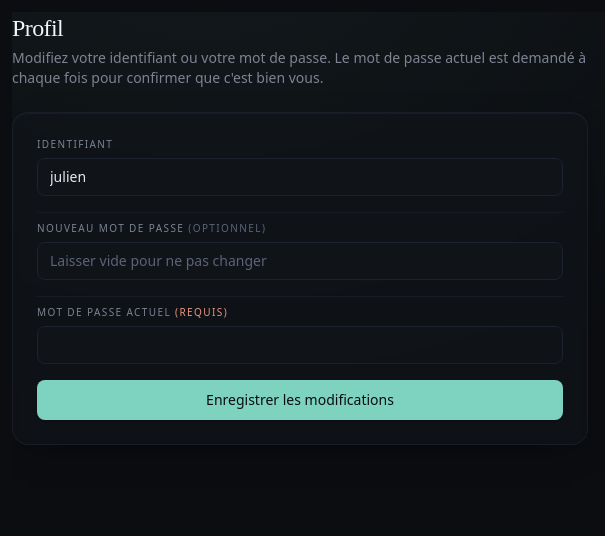
Test case: Profile › surfaces server errors as-is
Replace the text in the field with "newname": (300, 177) [37,158,563,196]
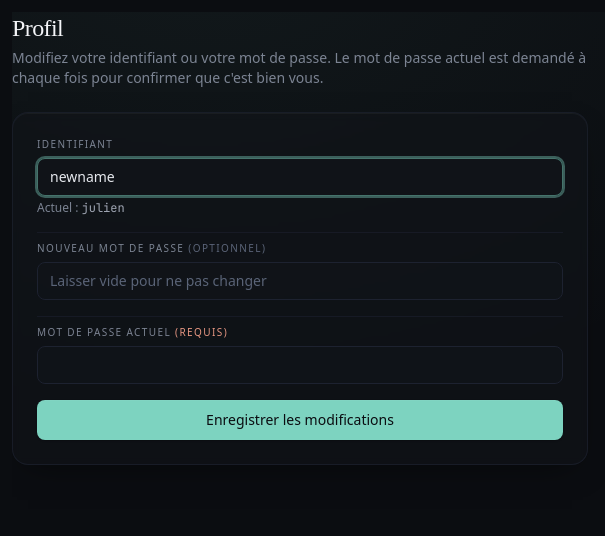
In the 2nd password field: (300, 365) [37,346,563,384], type "wrong"
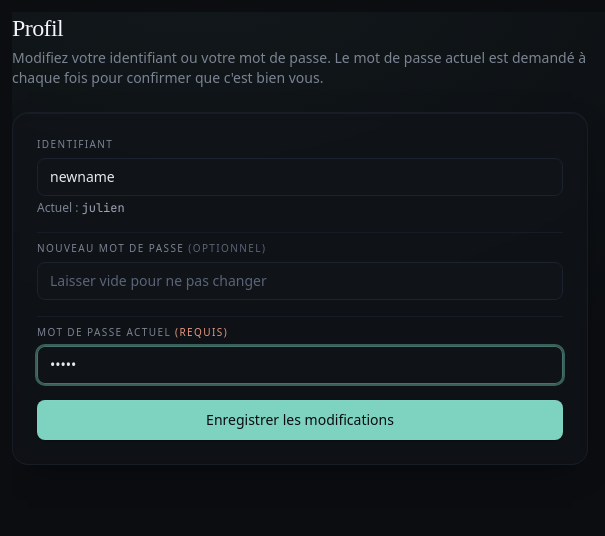
Click the button "Enregistrer les modifications": (300, 420) [37,400,563,440]
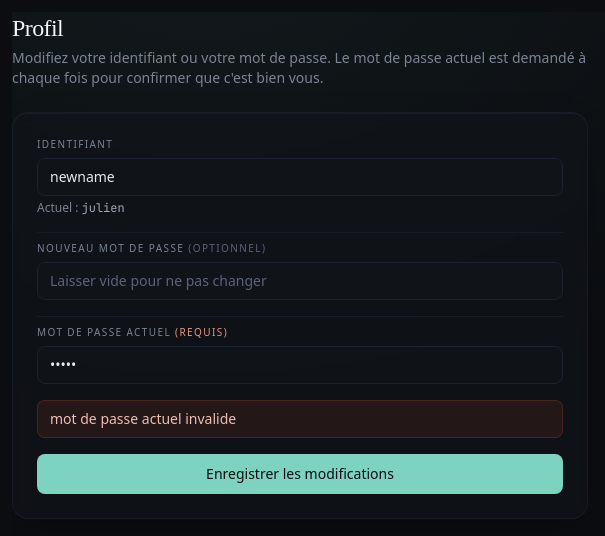
Expected: the text "mot de passe actuel invalide" is shown, [37,400,563,438]
